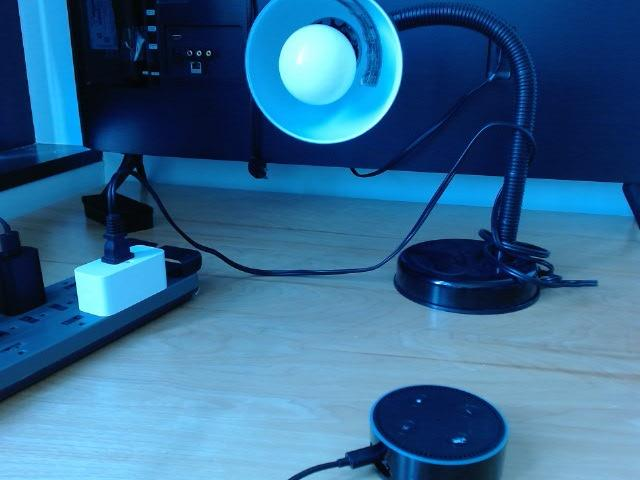Fan: (276, 23, 358, 108)
